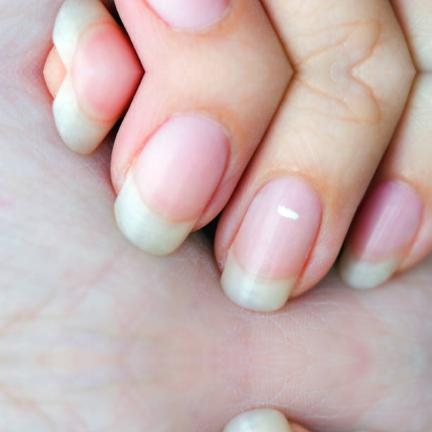Nail: (115, 115, 230, 256), (220, 177, 322, 312), (339, 179, 423, 290), (52, 73, 145, 155), (52, 0, 145, 71), (147, 0, 229, 29), (222, 408, 293, 432), (355, 430, 374, 432)
